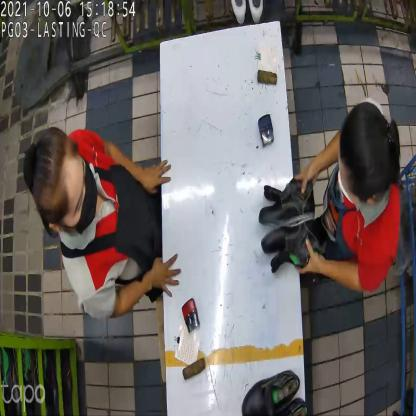shoes: (255, 171, 326, 280), (239, 366, 304, 415)
stamp: (255, 114, 276, 150), (184, 296, 201, 335)
